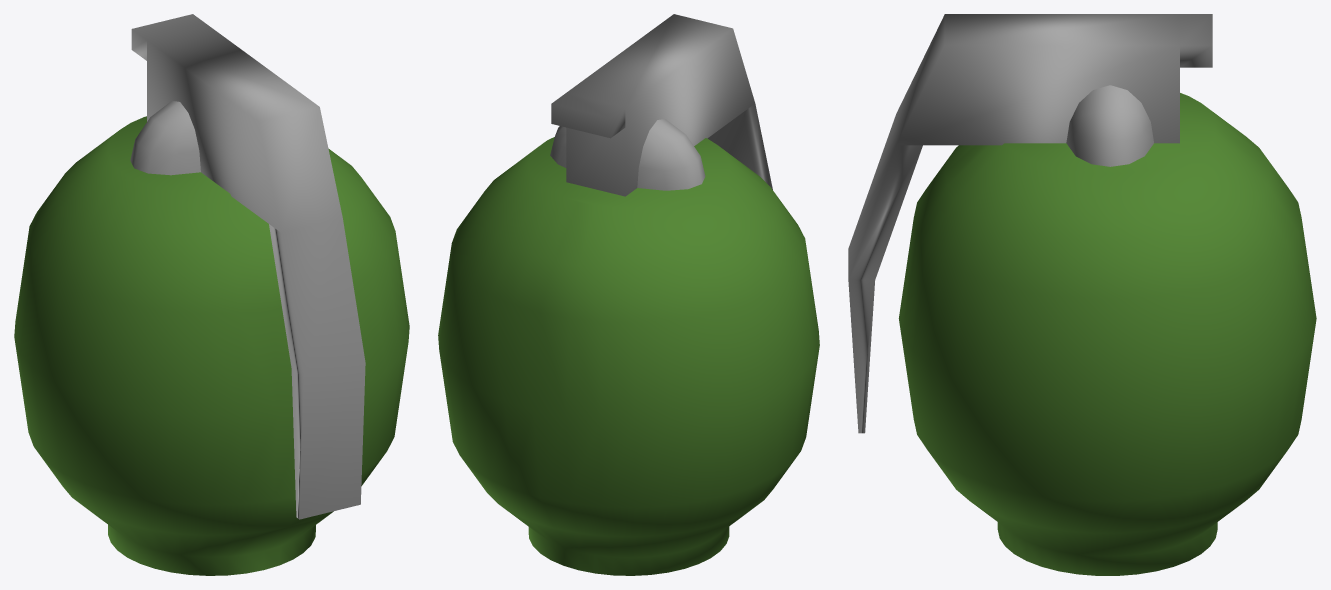
File: projectile_grenade.fbx
The picture shows the model from 3 angles, left to right: view 1: azimuth 30°, elevation 25°; view 2: azimuth 150°, elevation 25°; view 3: azimuth 270°, elevation 25°; orthographic projection. The views are drawn at different scales.
Visible parts, largest first — view 1: Cylinder; view 2: Cylinder; view 3: Cylinder.
Boxes of the visible parts, left/top/right/bottom form: Cylinder: left=14, top=14, right=409, bottom=575; Cylinder: left=438, top=14, right=819, bottom=575; Cylinder: left=848, top=14, right=1316, bottom=575.
Size of the model in its own units: 378 by 502 by 426.
